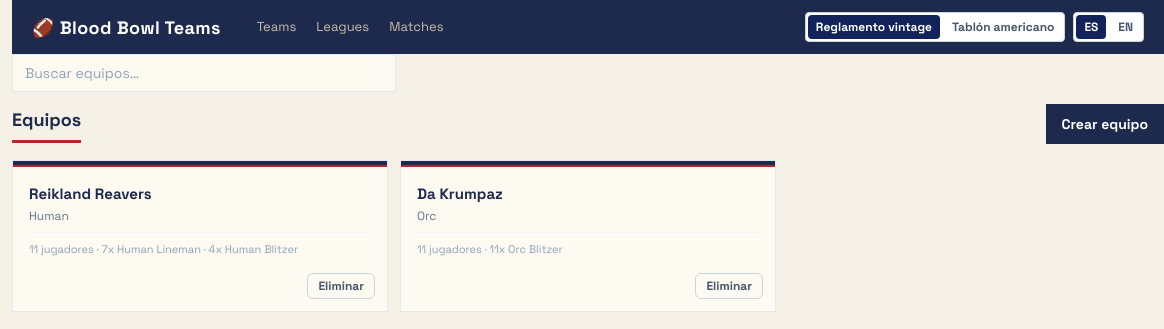
it: TeamList › filters by team name from the topbar
Expected: the heading "Reikland Reavers" is shown, [29,184,152,203]
In the search field labelled "Buscar equipos…": (204, 73) [12,54,396,92], type "reikland"
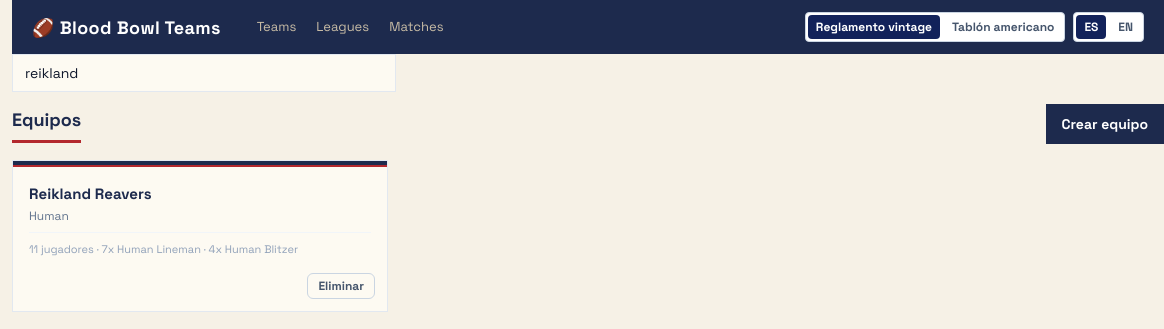
Expected: the heading "Reikland Reavers" is shown, [29,184,152,203]
Expected: the link "Da Krumpaz" is gone
